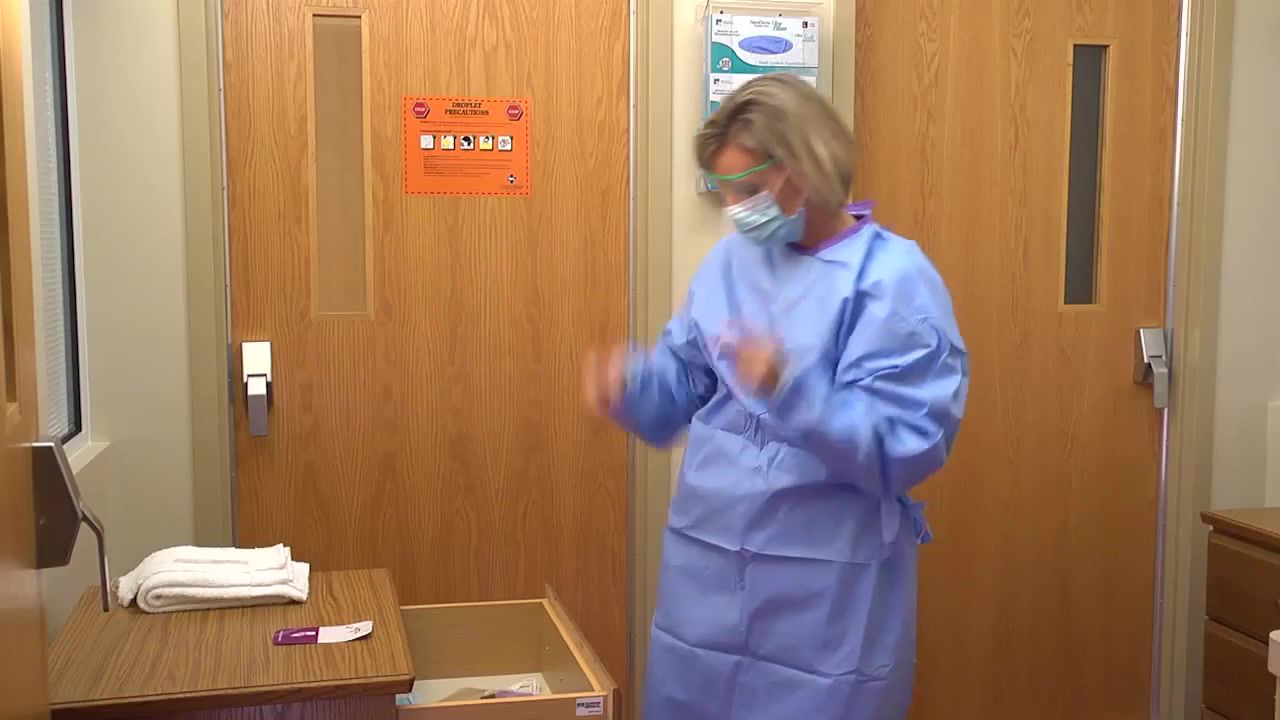Coverall: (606, 204, 973, 720)
Face_Shield: (678, 173, 803, 251)
with_mask: (716, 193, 806, 249)
